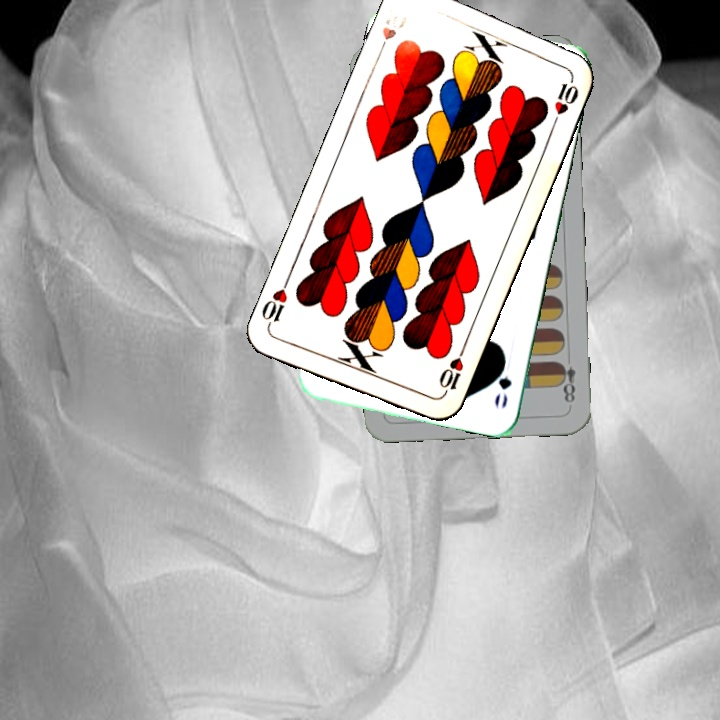E8: (554, 358, 578, 406)
GO: (490, 351, 514, 411)
H10: (435, 344, 468, 400), (373, 10, 403, 60)
